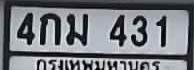1: (155, 15, 166, 46)
3: (130, 14, 146, 46)
4: (16, 11, 34, 44), (109, 14, 125, 46)
A01: (39, 12, 60, 44)
A33: (65, 12, 87, 44)
